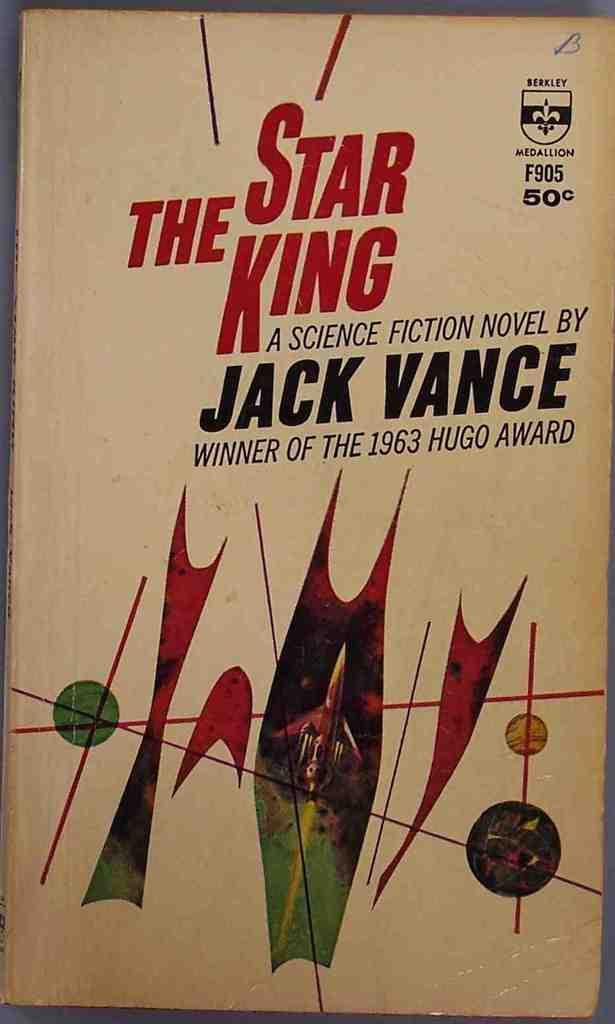book: (0, 3, 614, 1020)
